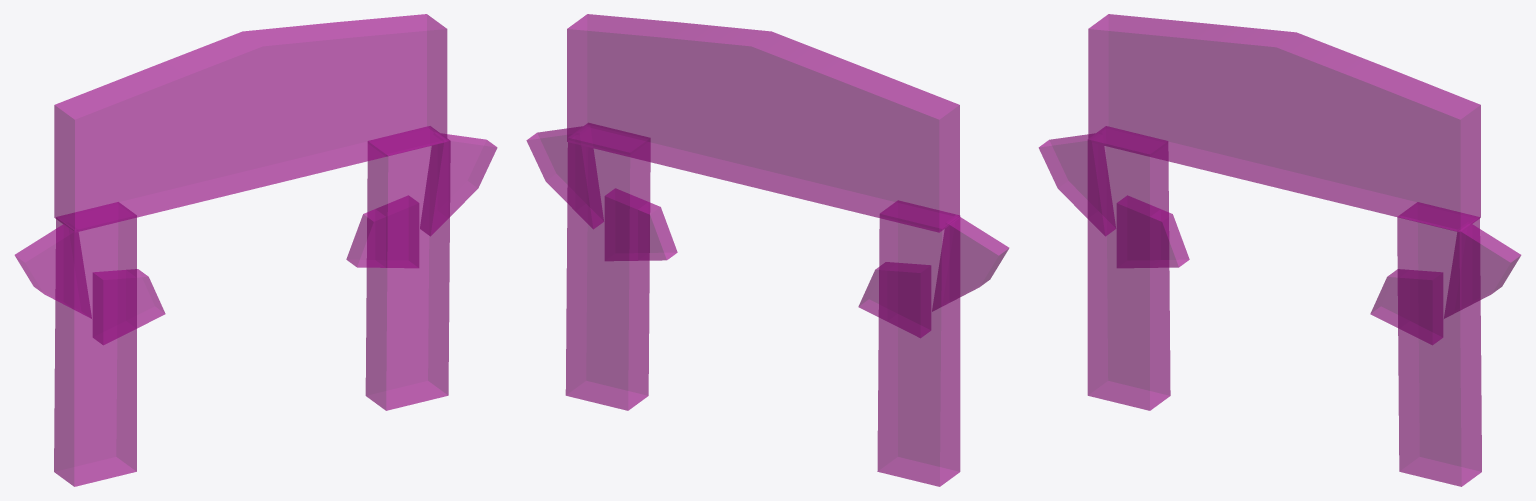
File: SM_Prop_Carnival_Entrance_01_Collision.fbx
3 views of the same model, side by side, from view 1: azimuth 30°, elevation 25°; view 2: azimuth 150°, elevation 25°; view 3: azimuth 330°, elevation 25° (orthographic).
Visible parts, largest first — view 1: SM_Prop_Carnival_Entrance_01_Collision; view 2: SM_Prop_Carnival_Entrance_01_Collision; view 3: SM_Prop_Carnival_Entrance_01_Collision.
Boxes of the visible parts, box(x1,y1,x2,y2) form: SM_Prop_Carnival_Entrance_01_Collision: box(15, 14, 497, 486); SM_Prop_Carnival_Entrance_01_Collision: box(526, 14, 1008, 486); SM_Prop_Carnival_Entrance_01_Collision: box(1039, 14, 1520, 486).
Bounding box in the file's own units: 598 × 477 × 49.62.
